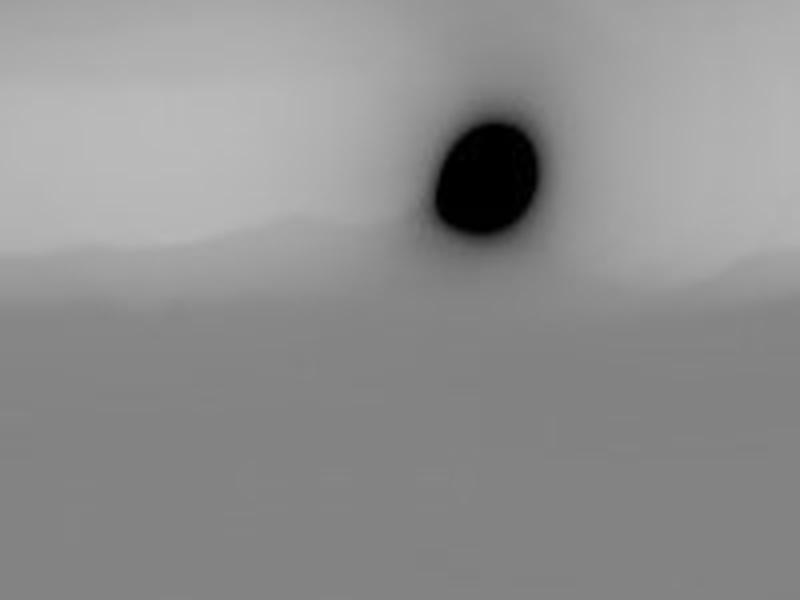defect: (433, 123, 539, 238)
